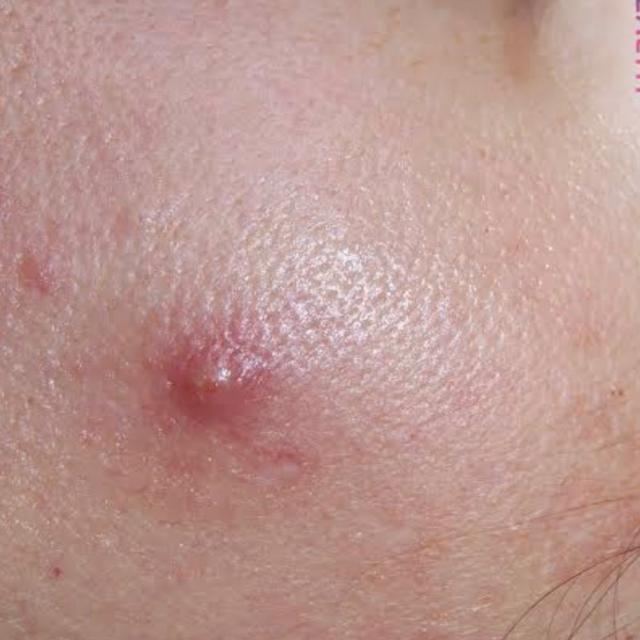papule: (105, 298, 327, 457)
